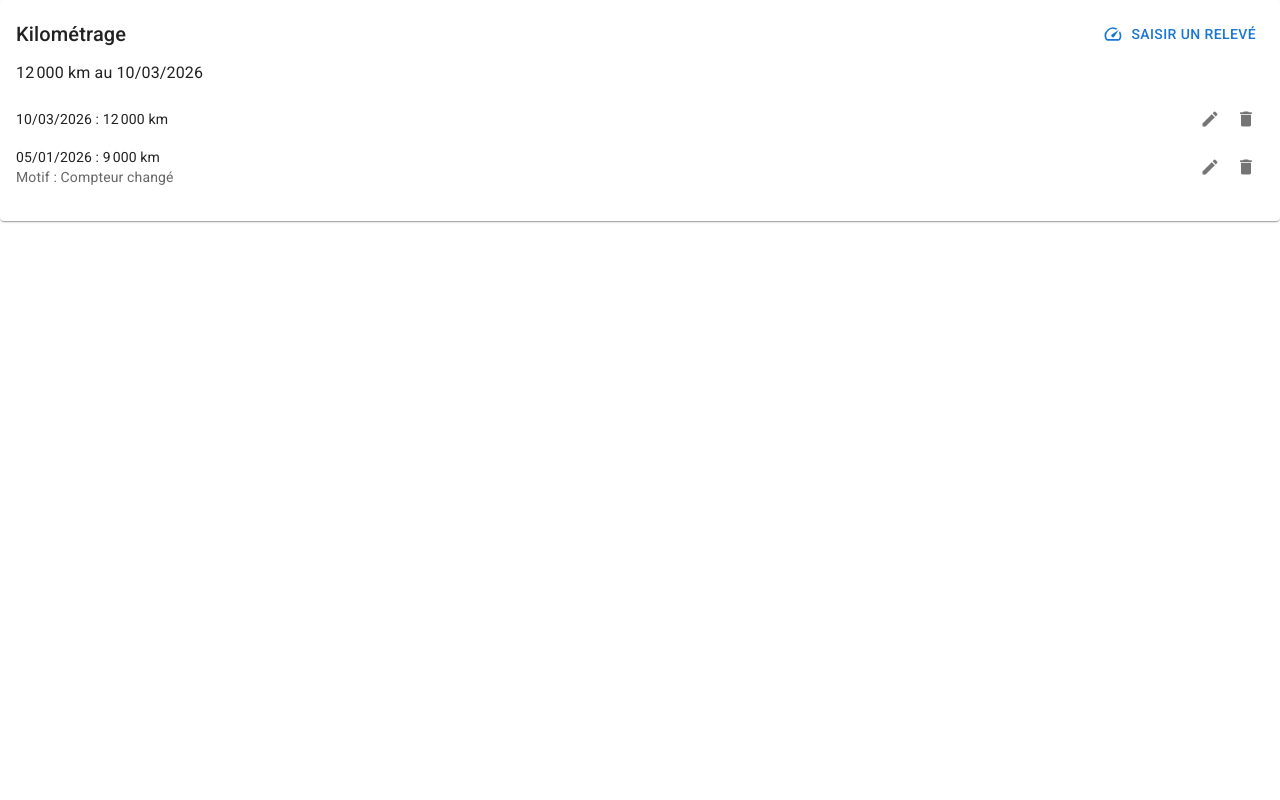
Test: VehicleMileage : correction des relevés › applique confirmation puis remise à zéro lors d'une modification
Click the button named "Modifier le relevé du 05/01/2026".
click(1210, 166)  # box [1192,148,1228,184]
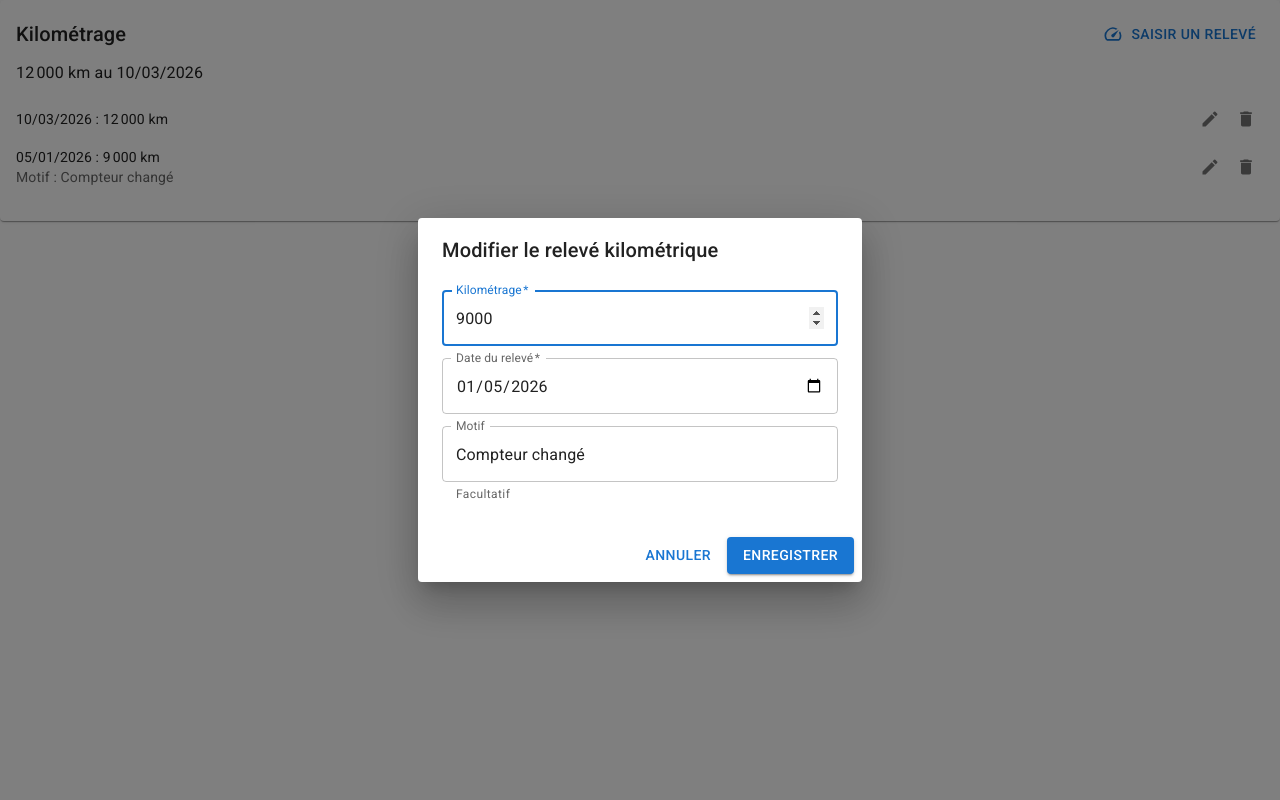
Replace the text in the number field labelled "Kilométrage *" with "99999" at (640, 318), box [442,290,838,346]
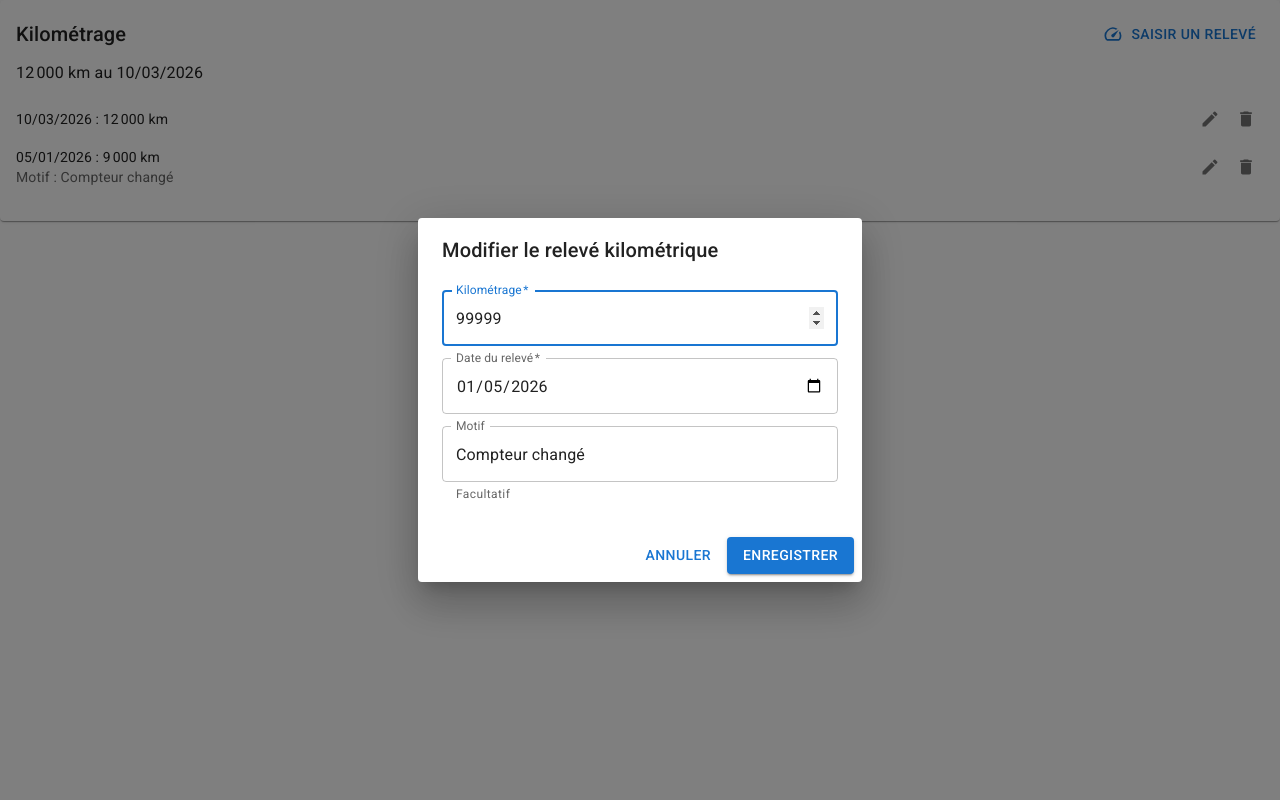
Click the button "Enregistrer".
click(790, 555)  # box [727,537,854,574]
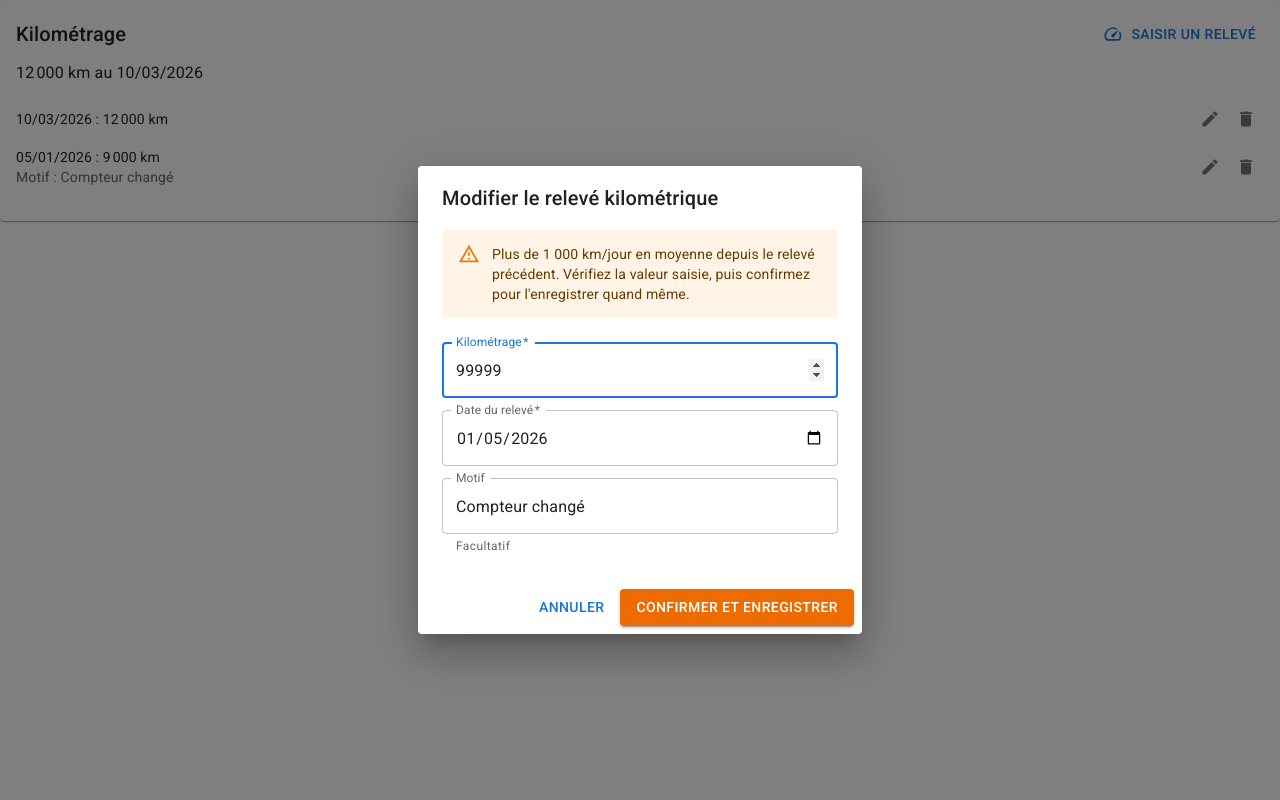
Result: the button "Confirmer et enregistrer" is shown at [620,589,854,626]
Replace the text in the number field labelled "Kilométrage *" with "50000" at (640, 370), box [442,342,838,398]
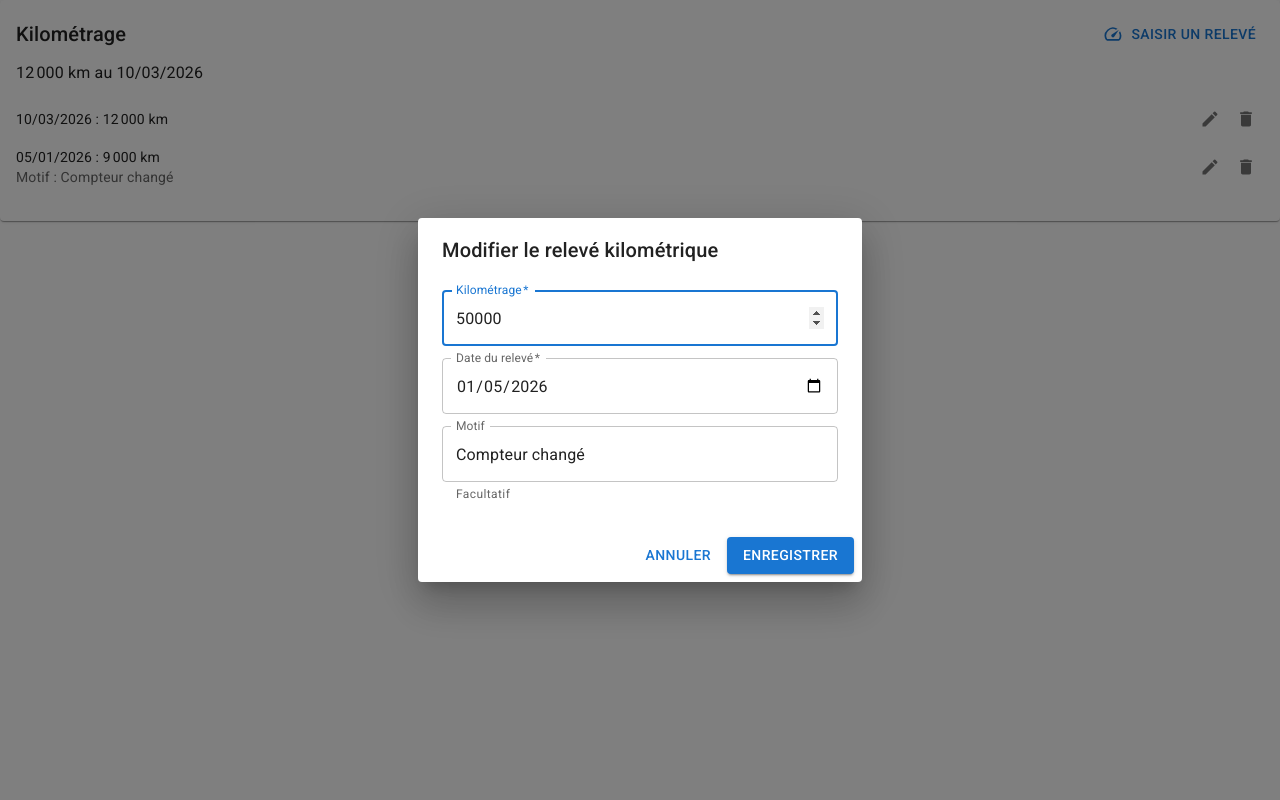
Result: the button "Enregistrer" is shown at [727,537,854,574]
Result: the button "Confirmer et enregistrer" is gone
